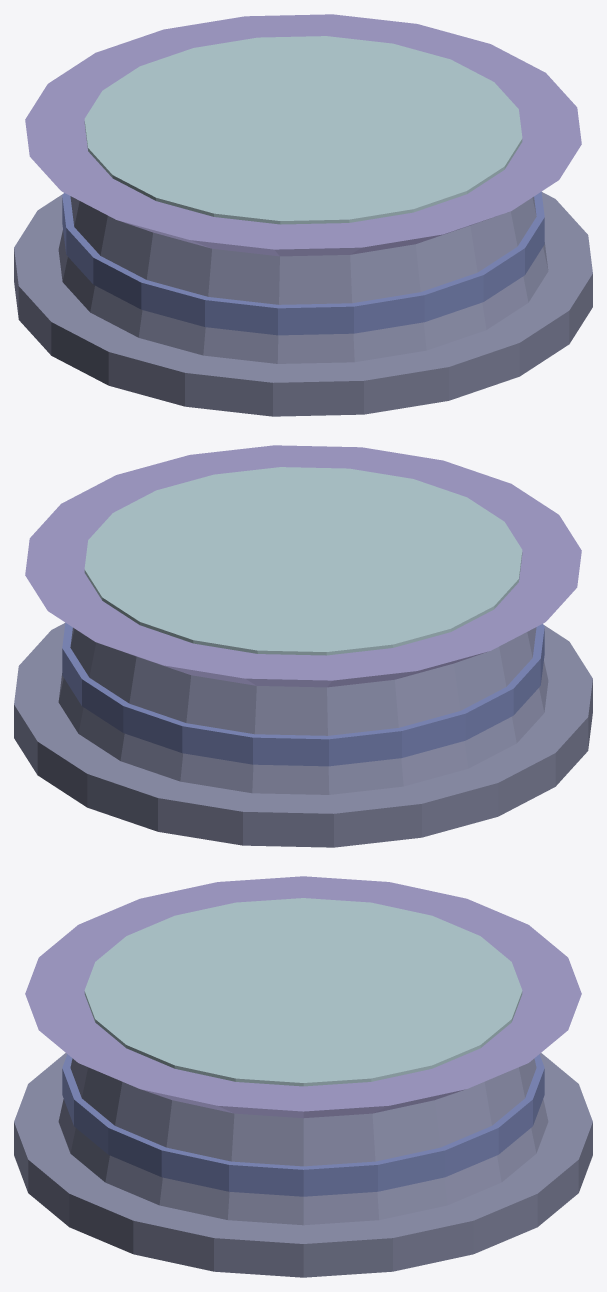
File: goo_cork_stand@crystal.fbx
3 views of the same model, one above another, from view 1: azimuth 30°, elevation 25°; view 2: azimuth 150°, elevation 25°; view 3: azimuth 270°, elevation 25° (orthographic).
Parts seen in each view (by area): view 1: goo_cork_stand; view 2: goo_cork_stand; view 3: goo_cork_stand.
Part boxes in pixels (x1,y1,x2,y2): goo_cork_stand: (14, 14, 592, 416); goo_cork_stand: (14, 445, 592, 847); goo_cork_stand: (14, 876, 592, 1277).
Bounding box in the file's own units: 7.8 × 2.45 × 7.8.
